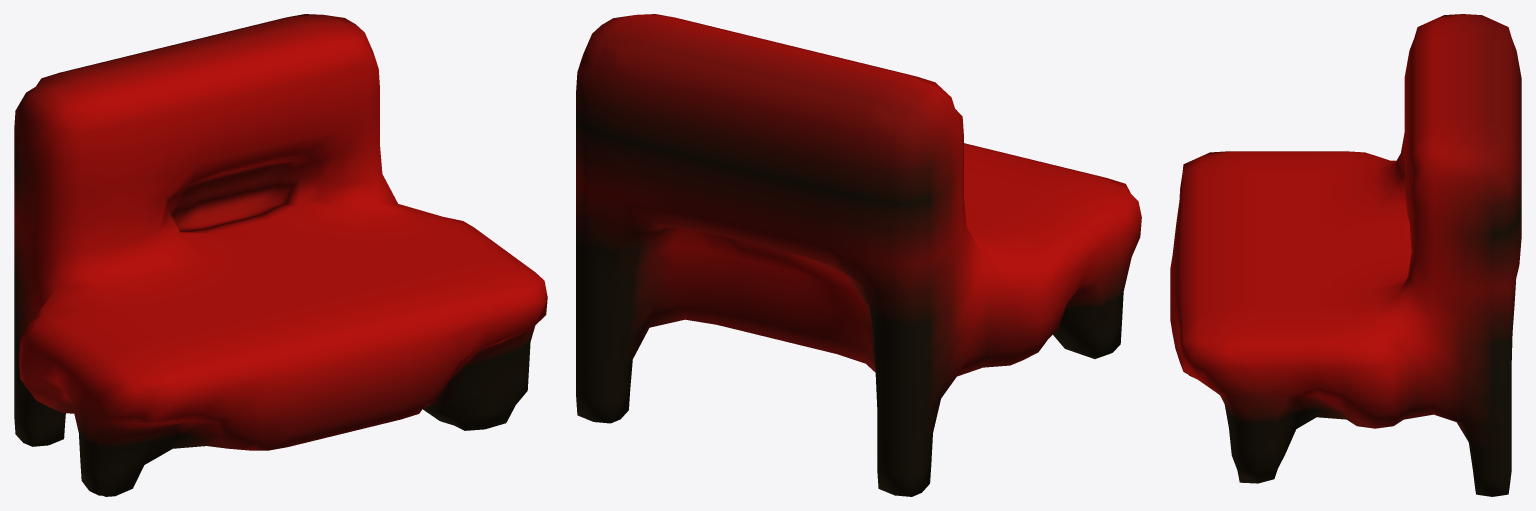
Rendered from SheenChair_064B_vox.glb.
3 views of the same model, side by side, from view 1: azimuth 30°, elevation 25°; view 2: azimuth 150°, elevation 25°; view 3: azimuth 270°, elevation 25° (orthographic). The views are drawn at different scales.
Parts seen in each view (by area): view 1: shapehash-vox; view 2: shapehash-vox; view 3: shapehash-vox.
Boxes of the visible parts, x1=… form: shapehash-vox: x1=14, y1=14, x2=547, y2=496; shapehash-vox: x1=576, y1=14, x2=1141, y2=496; shapehash-vox: x1=1170, y1=14, x2=1521, y2=496.
Bounding box in the file's own units: 1.96 × 1.56 × 1.41.
